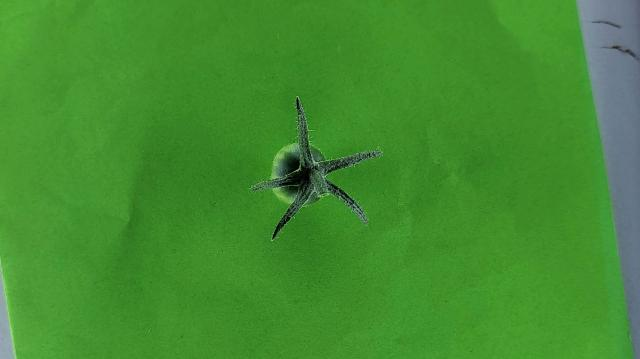Fruit Maturation: (269, 143, 327, 206)
